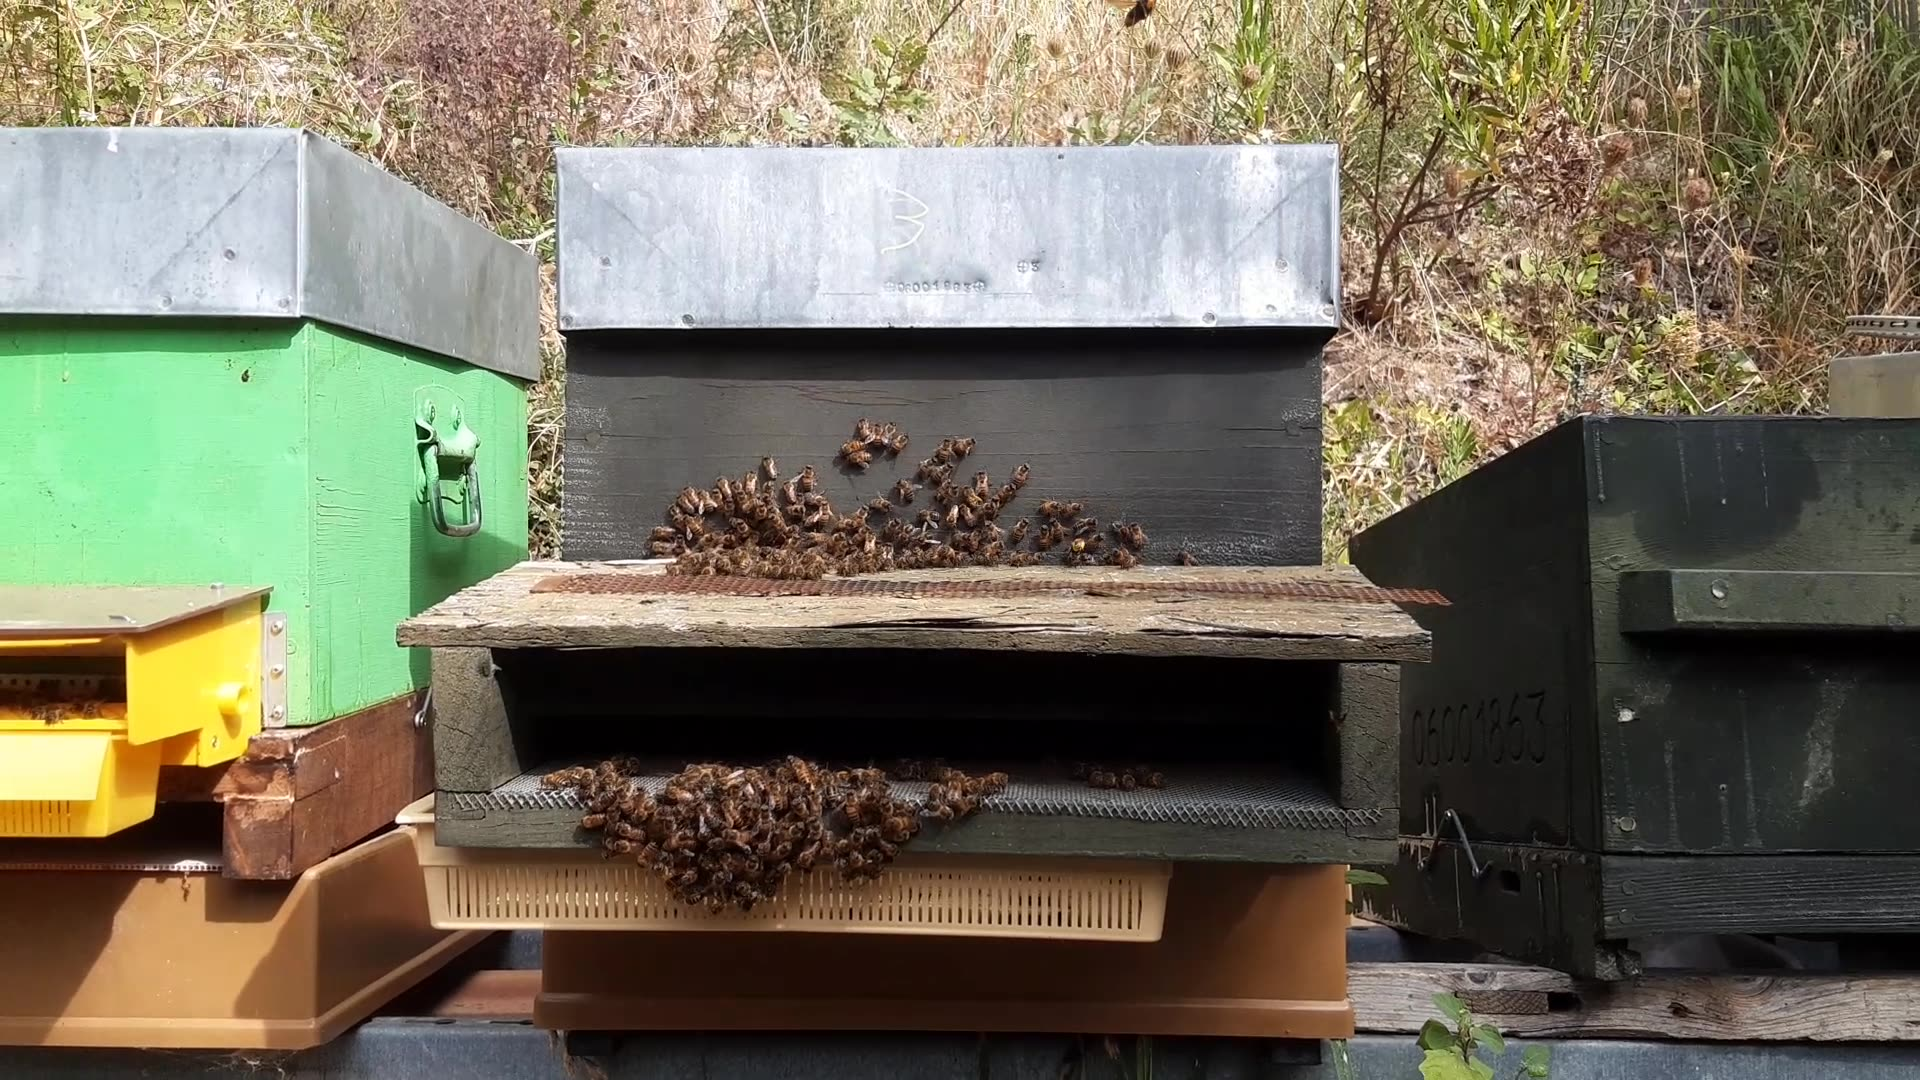bee: (910, 756, 1033, 818), (654, 836, 740, 910), (1043, 506, 1131, 562), (847, 510, 923, 572), (720, 741, 814, 790), (938, 501, 997, 558), (940, 465, 1002, 517), (732, 514, 798, 560), (745, 469, 802, 522), (855, 425, 920, 465)
